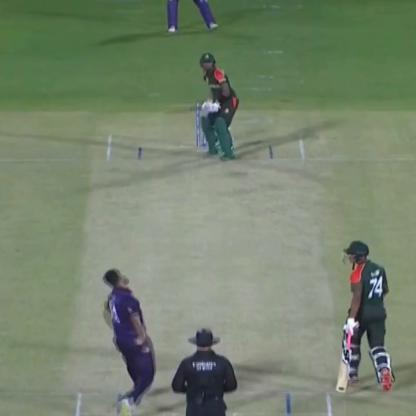ball: (130, 339, 154, 357)
bat: (328, 324, 358, 394), (158, 100, 214, 120)
pitch: (72, 132, 339, 416)
